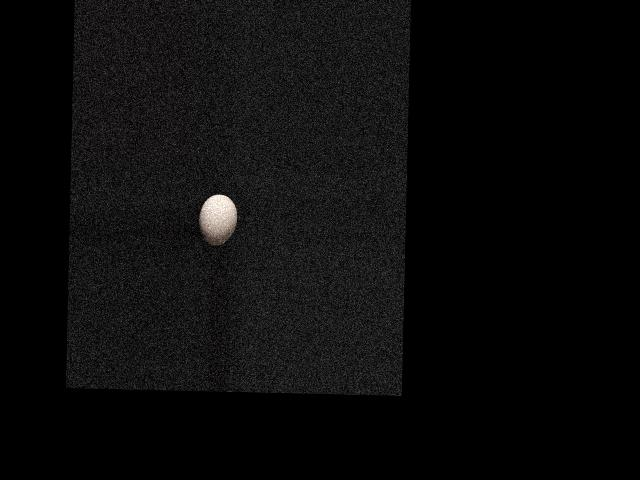egg: (198, 193, 237, 245)
